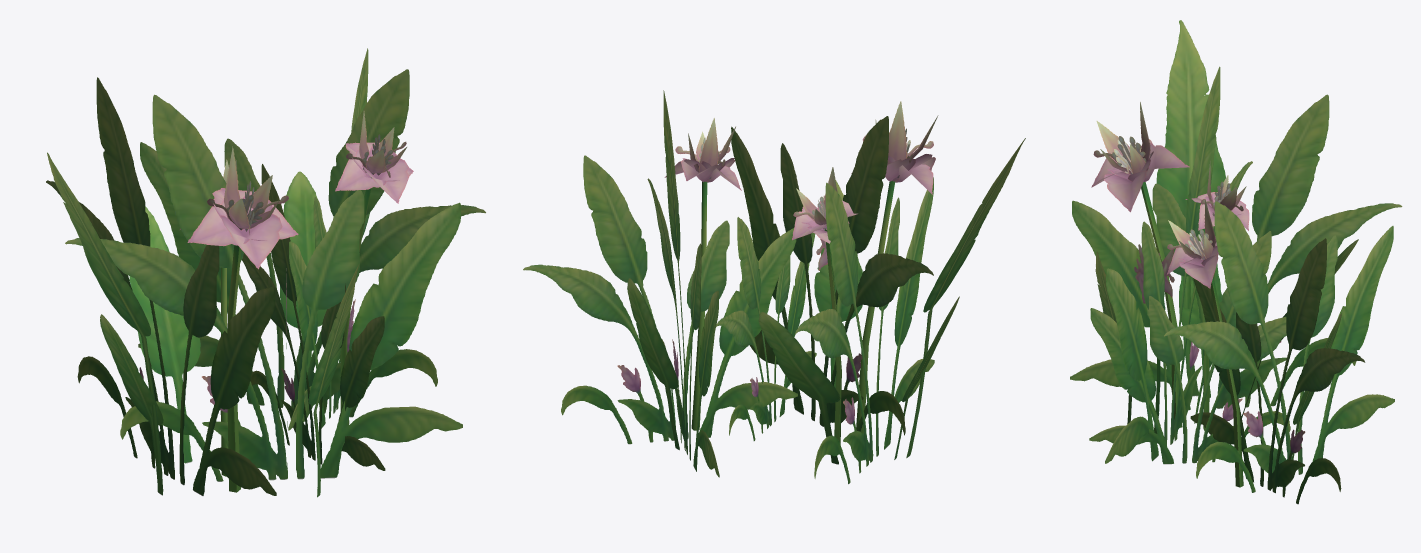
Rendered from Map_Choose_grass09.FBX.
3 views of the same model, side by side, from view 1: azimuth 30°, elevation 25°; view 2: azimuth 150°, elevation 25°; view 3: azimuth 270°, elevation 25° (orthographic). The views are drawn at different scales.
Parts seen in each view (by area): view 1: Map_Choose_grass09; view 2: Map_Choose_grass09; view 3: Map_Choose_grass09.
Part boxes in pixels (left/top/right/bottom): Map_Choose_grass09: left=46, top=48, right=485, bottom=497; Map_Choose_grass09: left=523, top=90, right=1025, bottom=484; Map_Choose_grass09: left=1070, top=20, right=1402, bottom=504.
Size of the model in its own units: 307 by 256 by 227.
1 material, 1 textured.
